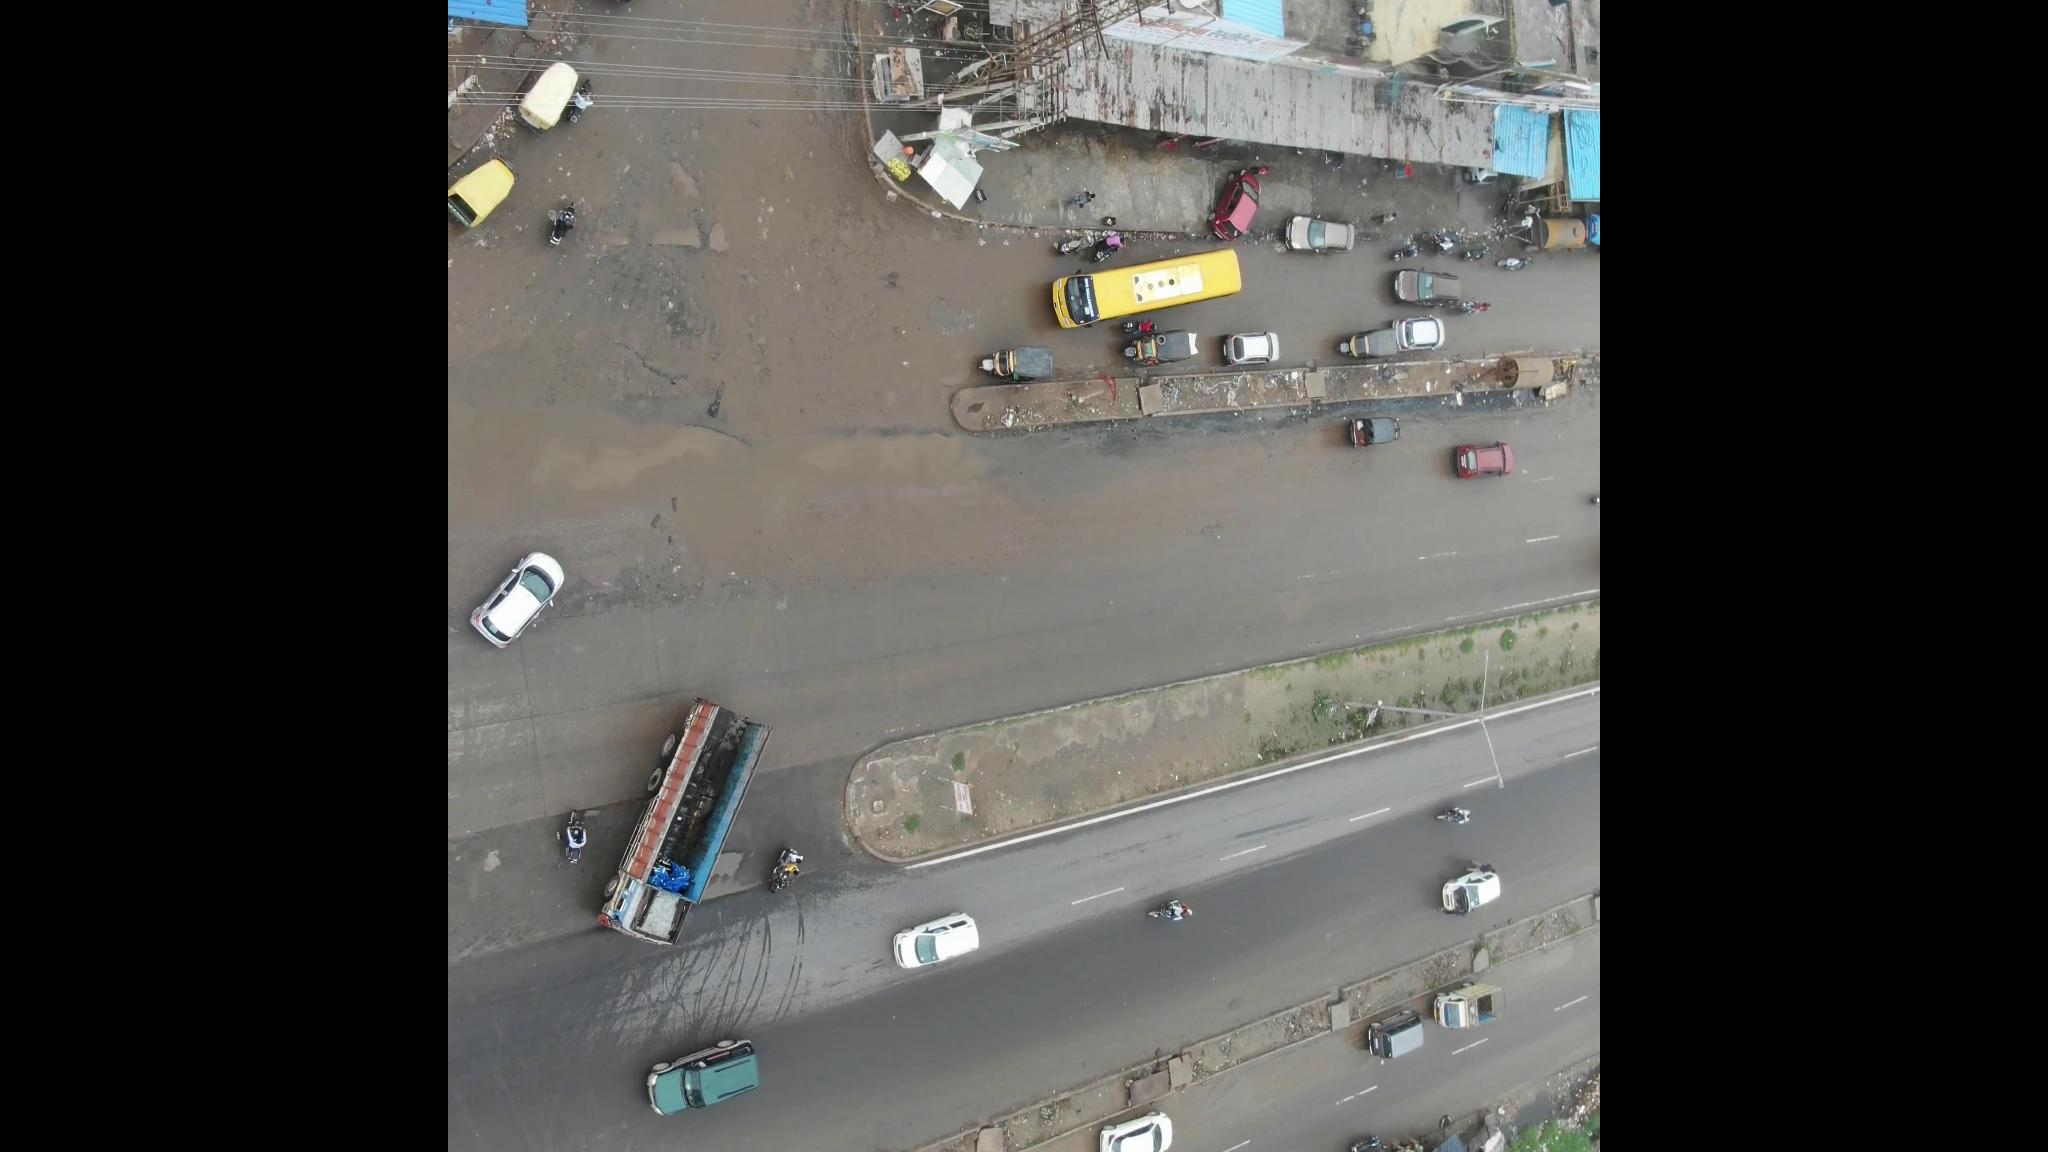Potholes: (565, 208, 753, 506)
